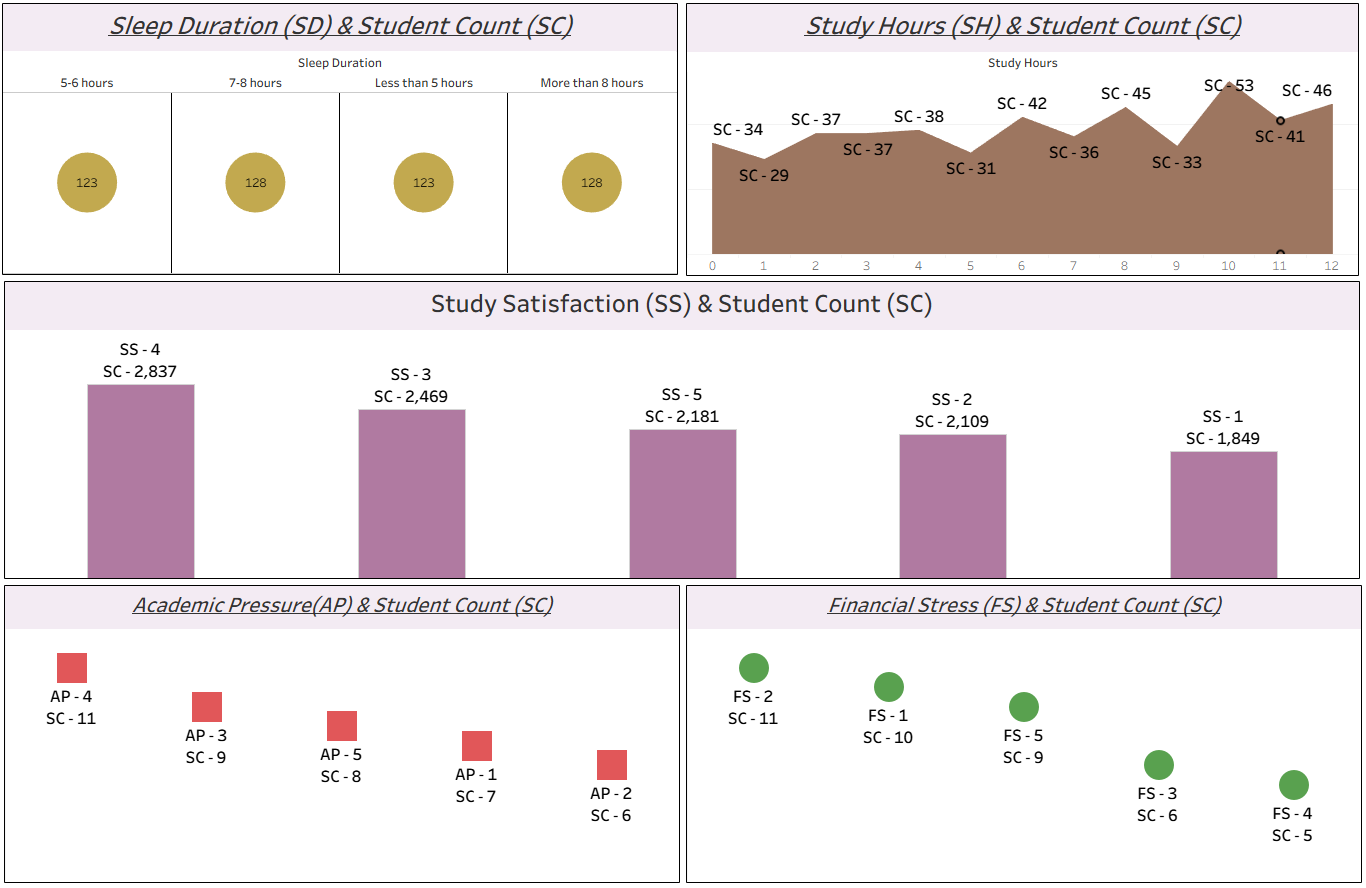

This screenshot's page, from the dashboard's own definition file:
{"tool":"tableau","page":{"name":"Student Count Analysis","canvas":[1000,1000],"units":"permille","ordinal":0},"visuals":[{"type":"worksheet","title":"SD & SC","mark":"Pie","cols":["Sleep_Duration"],"box":[7,11.2,395.6,303.6]},{"type":"worksheet","title":"SH & SC","mark":"Area","rows":["index_column"],"cols":["Study_Hours"],"box":[407.3,11.2,393.8,304.7]},{"type":"worksheet","title":"SS & SC","mark":"Automatic","rows":["index_column"],"cols":["Study_Satisfaction"],"box":[8.2,321.4,793.5,332.6]},{"type":"worksheet","title":"AP & SC","mark":"Square","rows":["index_column"],"cols":["Academic_Pressure"],"box":[8.2,660.7,395.6,332.6]},{"type":"worksheet","title":"FS & SC","mark":"Circle","rows":["index_column"],"cols":["Financial_Stress"],"box":[407.3,660.7,395.6,332.6]}]}

Visuals, with their boxes on the dashboard's canvas, which has no fixed pixel size, in thousandths of its width and height (x1, y1, x2, y2). These are canvas units, not pixel positions in the 1366x888 screenshot, which may show the page scaled, cropped or inside an application window:
"SD & SC" worksheet (Pie marks): <box>7,11,403,315</box>
"SH & SC" worksheet (Area marks): <box>407,11,801,316</box>
"SS & SC" worksheet: <box>8,321,802,654</box>
"AP & SC" worksheet (Square marks): <box>8,661,404,993</box>
"FS & SC" worksheet (Circle marks): <box>407,661,803,993</box>
